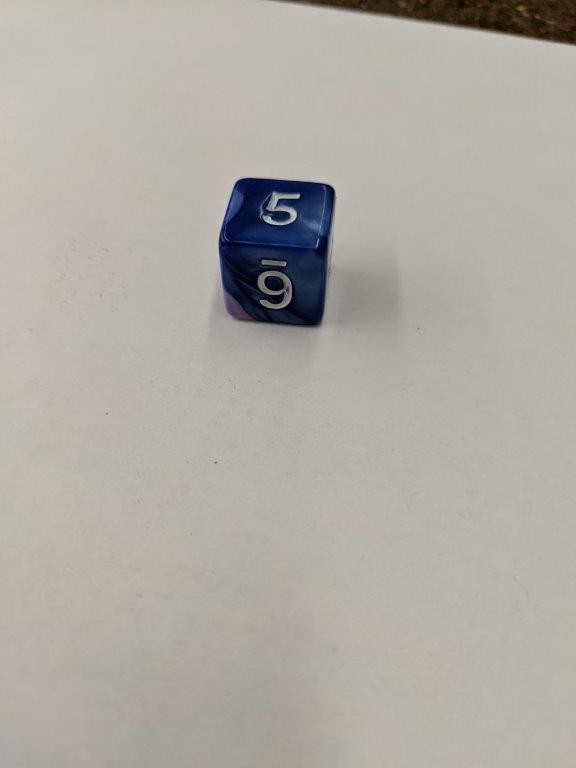d6-5: (218, 178, 334, 326)
